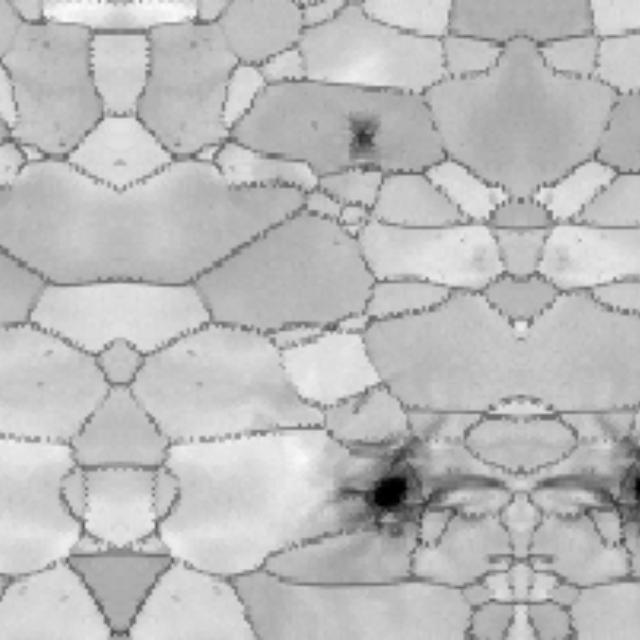good_void: (314, 429, 508, 543), (532, 430, 640, 541), (344, 120, 380, 165), (326, 234, 341, 254), (184, 39, 198, 52), (40, 39, 54, 52), (195, 377, 206, 390), (311, 121, 322, 134), (32, 377, 43, 390)
